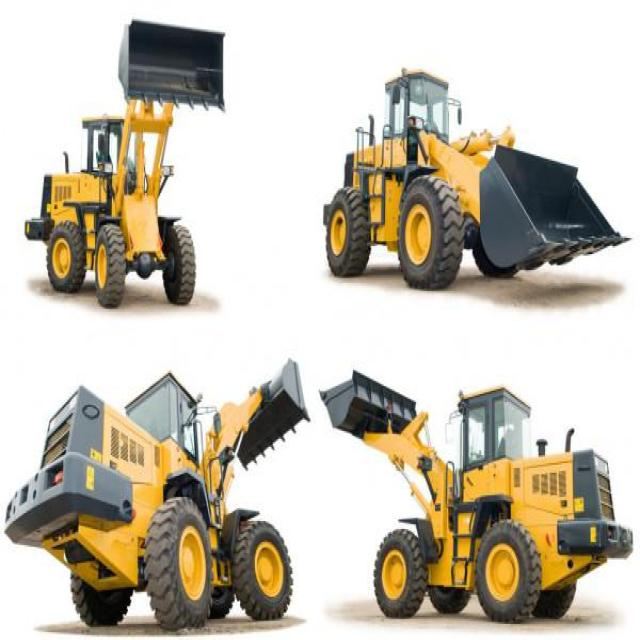pala cargadora: (319, 3, 635, 291), (2, 348, 312, 638), (318, 364, 637, 630), (25, 5, 234, 350)
